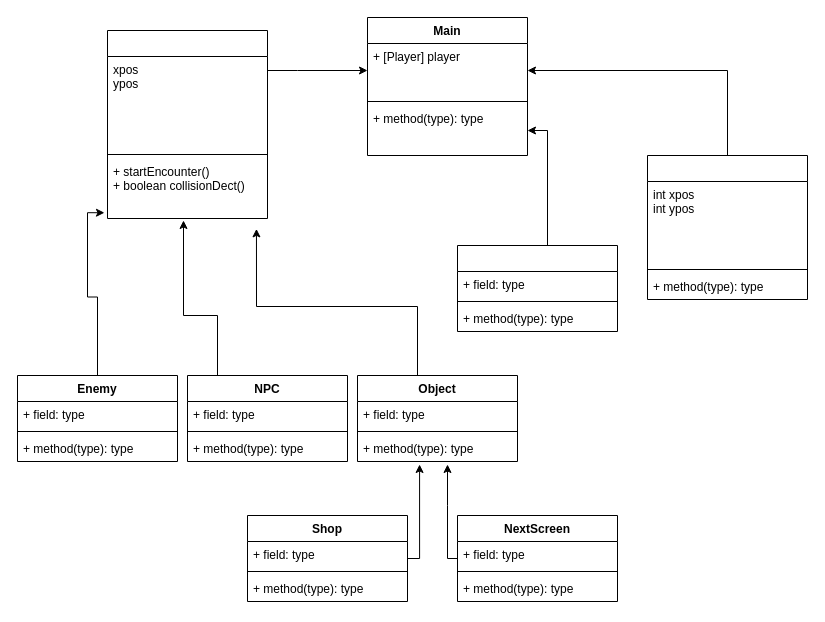
The diagram is 825 pixels wide and 622 high, and some of its shapes have lost their labels. The box of each missing label's shape, as (x1, y1, x2, y2) in pixels:
Encounter: (456, 244, 618, 332)
Entity (supercass): (106, 30, 268, 218)
Player: (646, 154, 808, 300)
